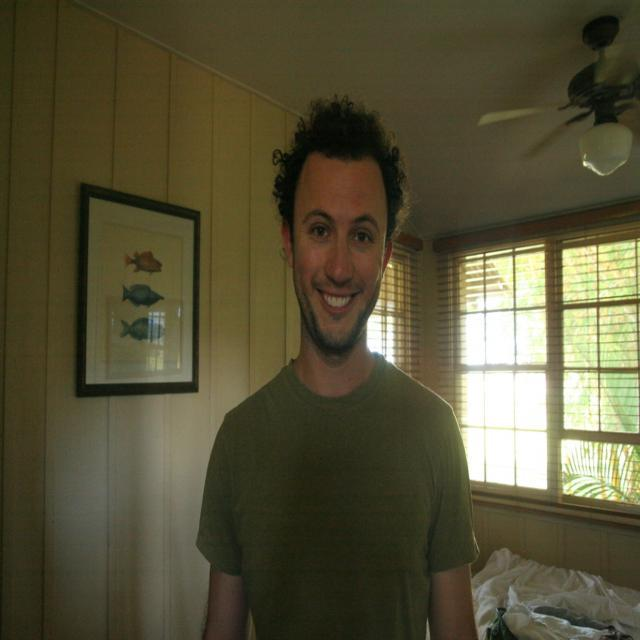fan_off: (481, 9, 640, 155)
